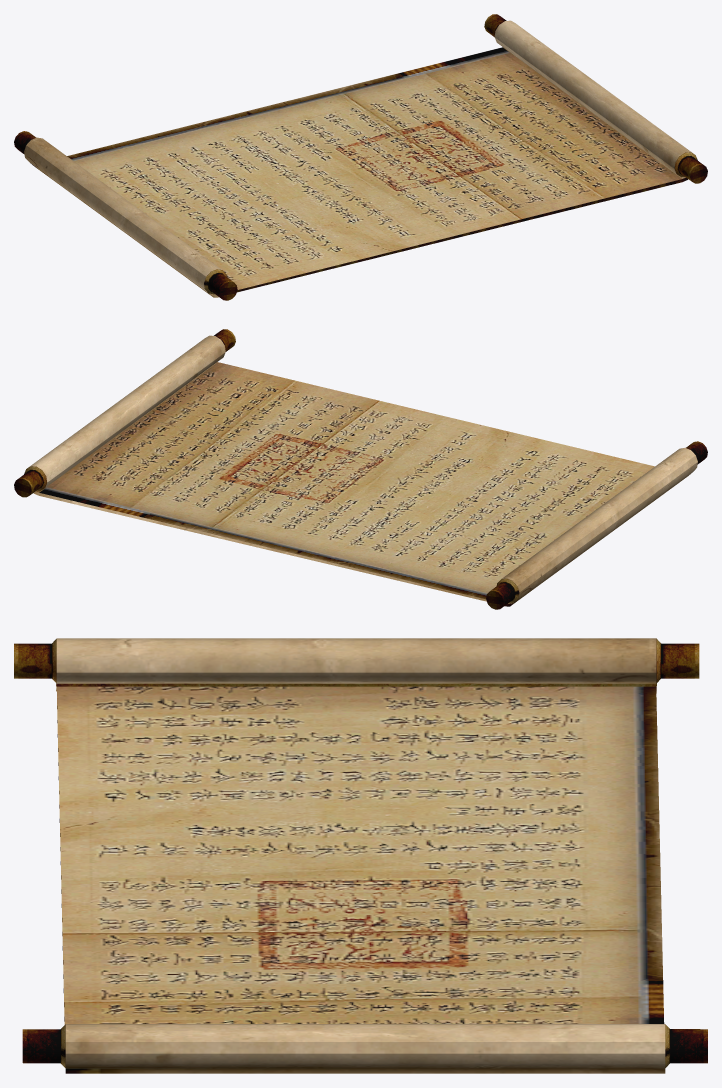
The model's file is ScrollPrint1.a.fbx.
3 views of the same model, one above another, from view 1: azimuth 30°, elevation 25°; view 2: azimuth 150°, elevation 25°; view 3: azimuth 270°, elevation 25° (orthographic). The views are drawn at different scales.
Visible parts, largest first — view 1: Group 0; view 2: Group 0; view 3: Group 0.
Boxes of the visible parts, box(x1,y1,x2,y2) form: Group 0: box(14, 14, 707, 300); Group 0: box(14, 329, 707, 609); Group 0: box(14, 638, 707, 1073).
Bounding box in the file's own units: 80.43 × 4.51 × 58.43.
1 material, 1 textured.
